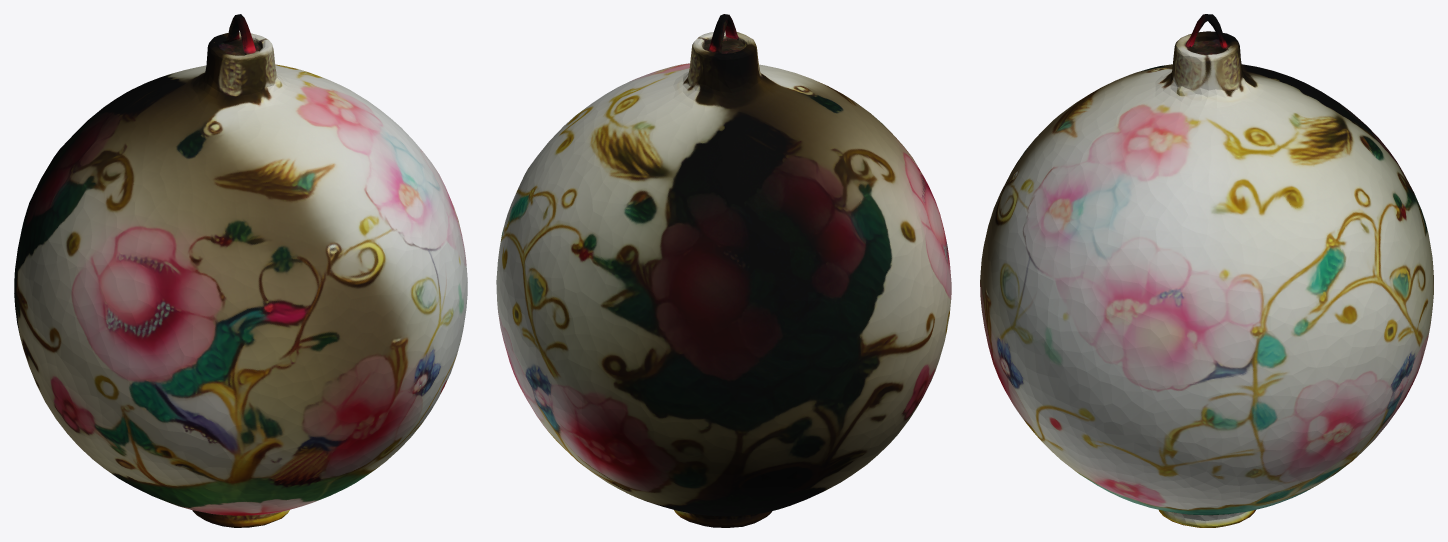
The model's file is porcelain-ornament-japanese.jpeg.glb.
3 views of the same model, side by side, from view 1: azimuth 30°, elevation 25°; view 2: azimuth 150°, elevation 25°; view 3: azimuth 270°, elevation 25° (orthographic).
Visible parts, largest first — view 1: world; view 2: world; view 3: world.
Part boxes in pixels (x1=…): world: x1=14, y1=14, x2=467, y2=527; world: x1=496, y1=14, x2=951, y2=527; world: x1=980, y1=14, x2=1433, y2=527.
Size of the model in its own units: 0.8288 by 0.9989 by 0.8273.
Materials: 1 (1 with a texture image).
